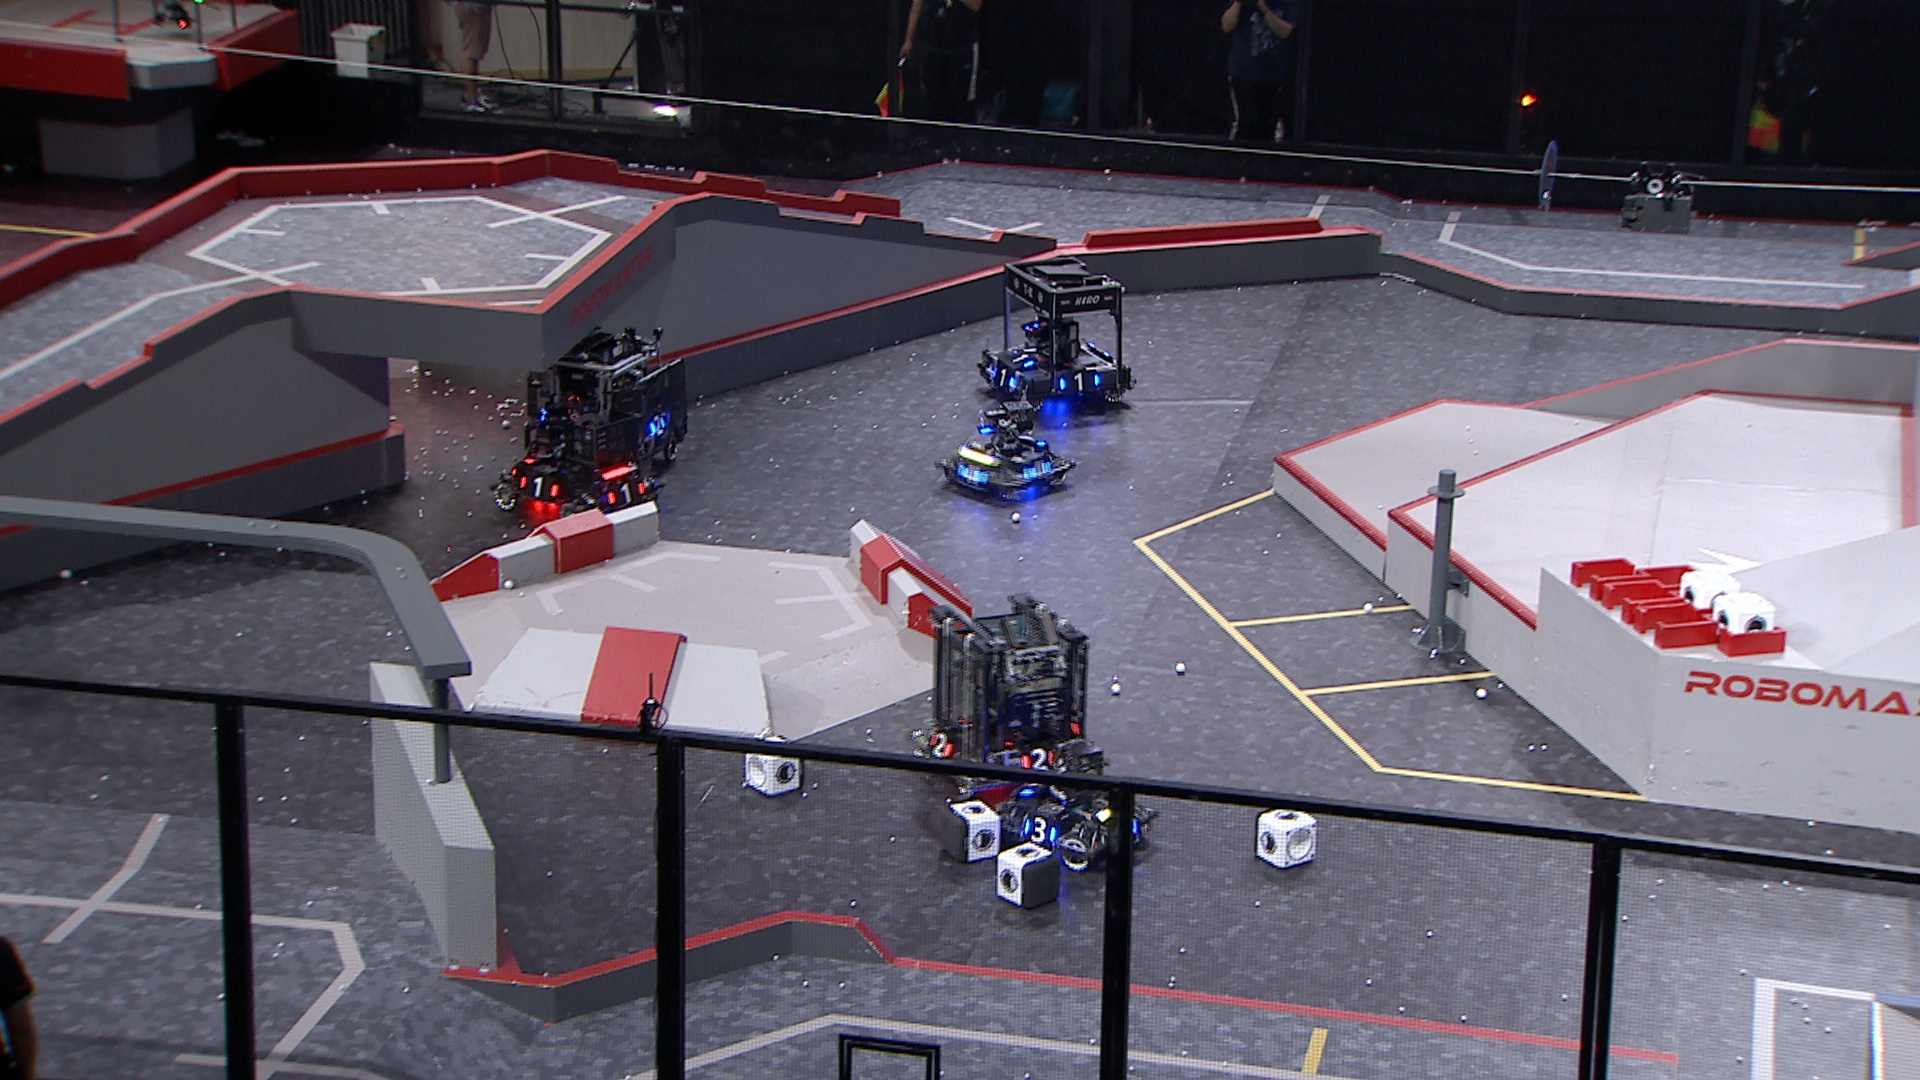armor: (517, 473, 560, 502), (604, 480, 647, 508), (1022, 816, 1060, 847), (1058, 372, 1102, 396), (957, 460, 992, 489), (1021, 749, 1055, 774), (986, 367, 1021, 392), (1021, 462, 1058, 484), (928, 732, 956, 760), (1005, 348, 1035, 372), (524, 450, 556, 469), (647, 415, 667, 438)
car: (909, 589, 1097, 804), (975, 257, 1138, 414), (520, 323, 690, 467), (485, 404, 665, 527), (994, 741, 1158, 872), (931, 400, 1077, 500)
